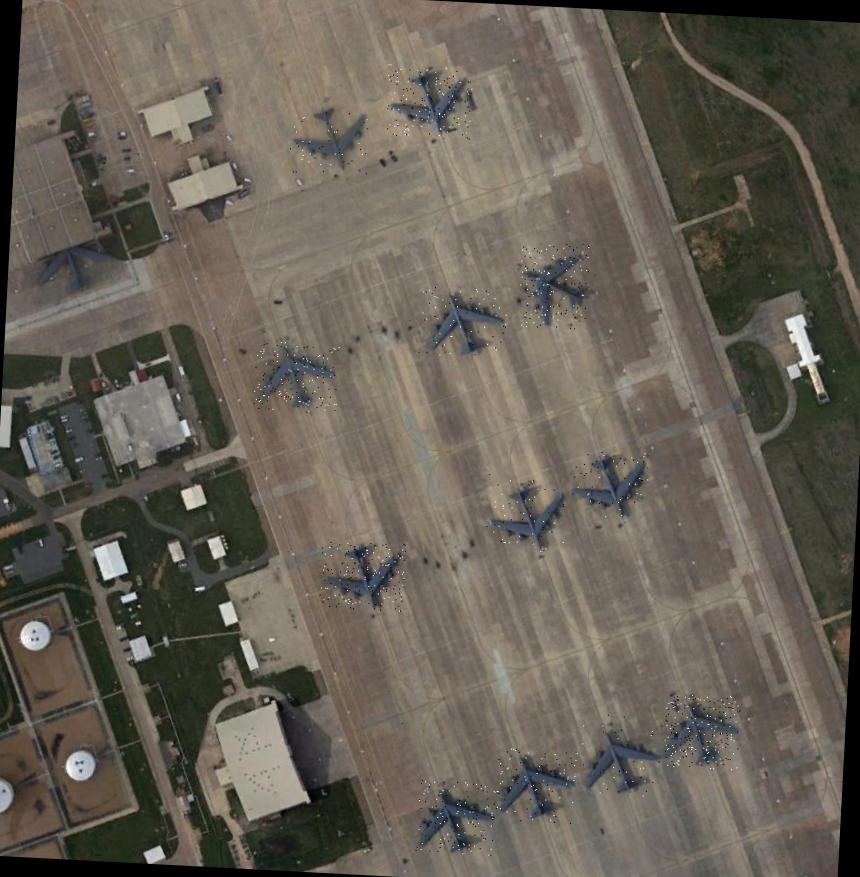A8: (578, 712, 662, 796), (384, 64, 474, 140), (482, 473, 568, 552), (418, 284, 509, 358), (518, 240, 590, 329), (495, 747, 578, 824), (286, 103, 372, 176), (254, 340, 340, 413), (414, 779, 496, 855), (320, 538, 406, 610), (663, 692, 741, 770), (570, 448, 651, 522)
